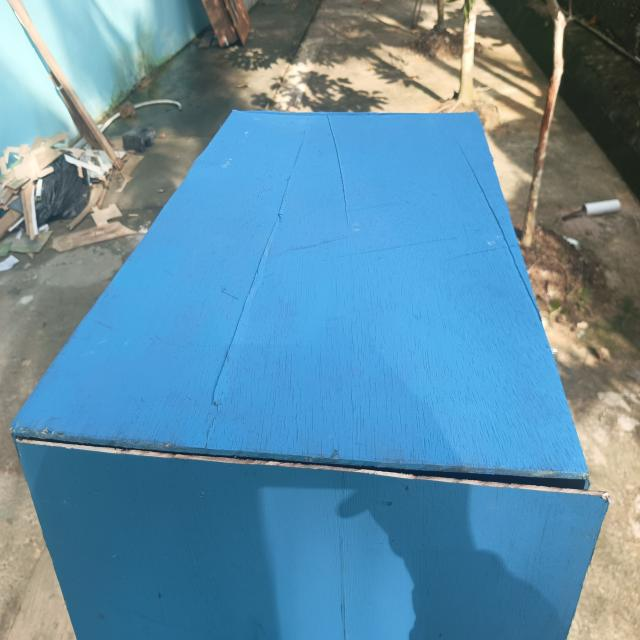blue_box: (19, 54, 589, 640)
